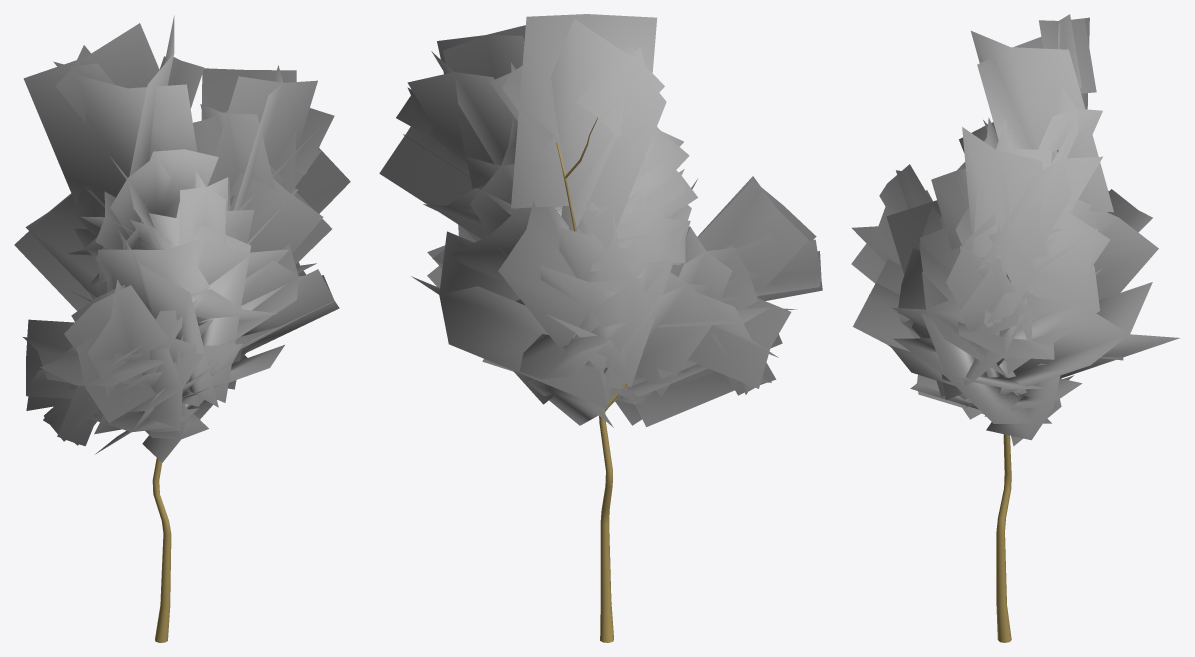
File: Aspen_LOD_0.fbx
The picture shows the model from 3 angles, left to right: view 1: azimuth 30°, elevation 25°; view 2: azimuth 150°, elevation 25°; view 3: azimuth 270°, elevation 25°; orthographic projection. The views are drawn at different scales.
Visible parts, largest first — view 1: Aspen_LOD_0; view 2: Aspen_LOD_0; view 3: Aspen_LOD_0.
Part boxes in pixels (x1,y1,x2,y2): Aspen_LOD_0: (14, 15, 350, 642); Aspen_LOD_0: (379, 14, 822, 642); Aspen_LOD_0: (851, 14, 1179, 642).
Size of the model in its own units: 10.32 by 16.67 by 8.07.
